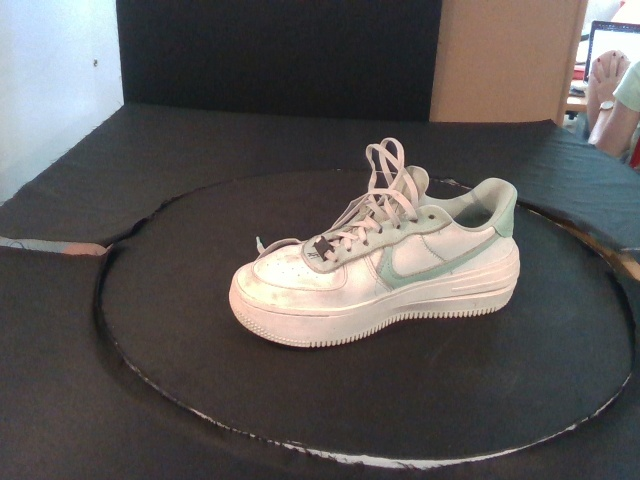shoe: (227, 164, 522, 349)
